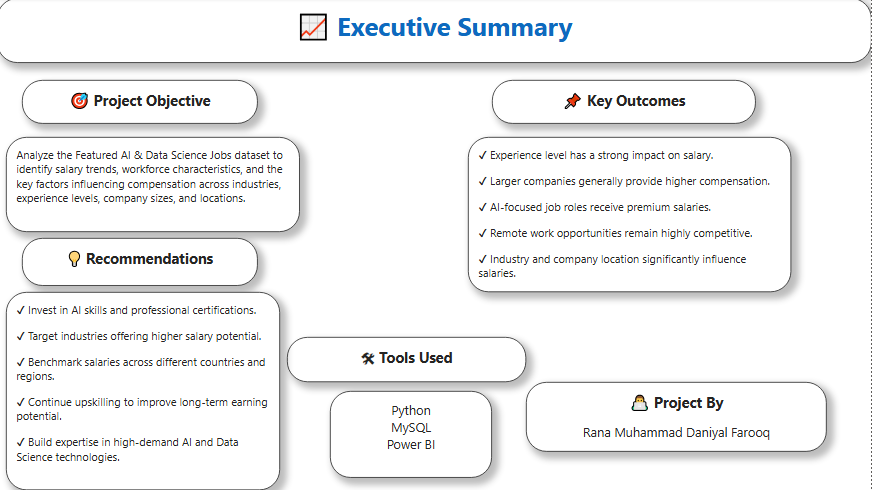

The page's visual inventory and layout, read from the dashboard file:
{"tool":"powerbi","page":{"name":"Page 3","canvas":[1280,720],"ordinal":2},"visuals":[{"type":"textbox","box":[0,0,1280.5,95.1],"z":0},{"type":"textbox","box":[36.6,120,345.4,64.4],"z":1},{"type":"textbox","box":[13.2,203.4,430.2,139],"z":2},{"type":"textbox","box":[424.4,496.1,349.8,65.9],"z":3},{"type":"textbox","box":[724.4,120,386.3,64.4],"z":4},{"type":"textbox","box":[689.3,203.4,472.7,226.8],"z":5},{"type":"textbox","box":[36.6,351.2,345.4,70.2],"z":6},{"type":"textbox","box":[13.2,430.2,401,289.8],"z":7},{"type":"textbox","box":[487.3,575.1,237.1,127.3],"z":9},{"type":"textbox","box":[774.1,562,440.5,102.4],"z":10}]}

Visuals, with their boxes in screenshot pixels (x1, y1, x2, y2), scaled from the page's 1280x720 canvas onto the 872x490 screenshot:
textbox: detection(0, 0, 871, 65)
textbox: detection(25, 82, 260, 125)
textbox: detection(9, 138, 302, 233)
textbox: detection(289, 338, 527, 382)
textbox: detection(493, 82, 757, 125)
textbox: detection(470, 138, 792, 293)
textbox: detection(25, 239, 260, 287)
textbox: detection(9, 293, 282, 489)
textbox: detection(332, 391, 493, 478)
textbox: detection(527, 382, 827, 452)
